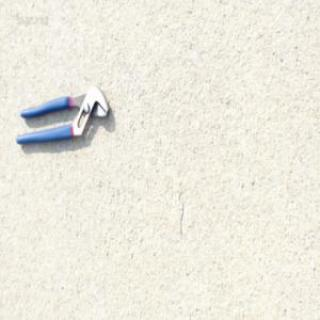Pliertrack_idkeyframe: (15, 82, 111, 144)
